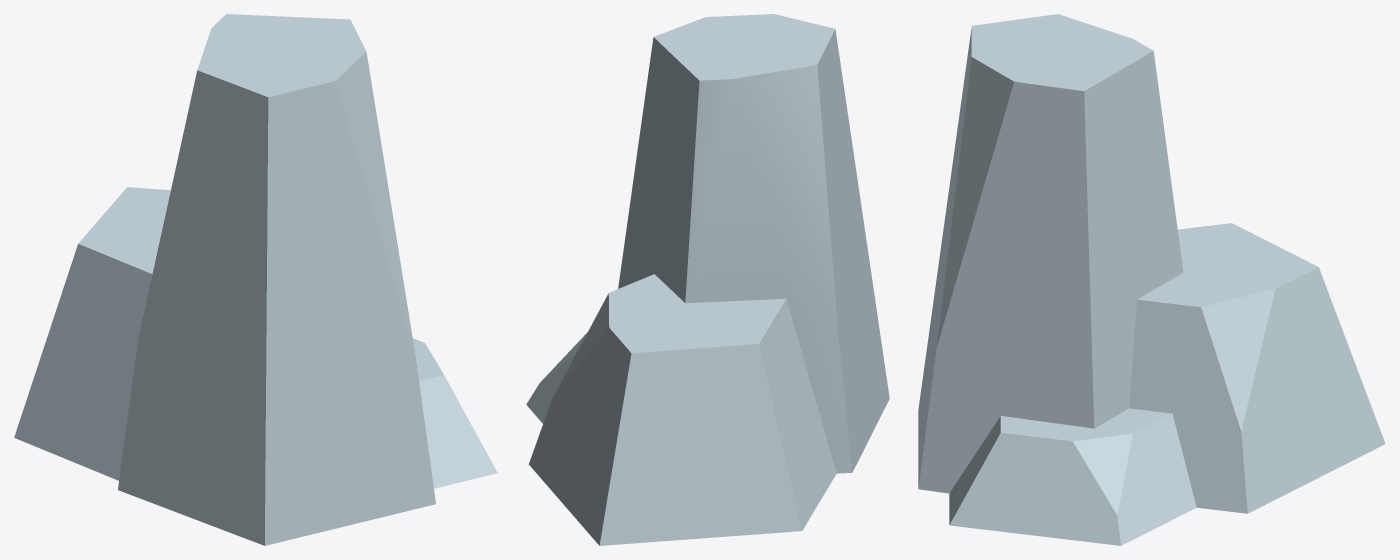
The model's file is rock_small.glb.
3 renders of one model, left to right at view 1: azimuth 30°, elevation 25°; view 2: azimuth 150°, elevation 25°; view 3: azimuth 270°, elevation 25°, orthographic. The views are drawn at different scales.
Parts seen in each view (by area): view 1: rockSmall; view 2: rockSmall; view 3: rockSmall.
Part boxes in pixels (x1,y1,x2,y2): rockSmall: [14, 14, 497, 545]; rockSmall: [526, 14, 889, 545]; rockSmall: [918, 14, 1385, 545].
Bounding box in the file's own units: 0.9419 × 1.02 × 1.08.
